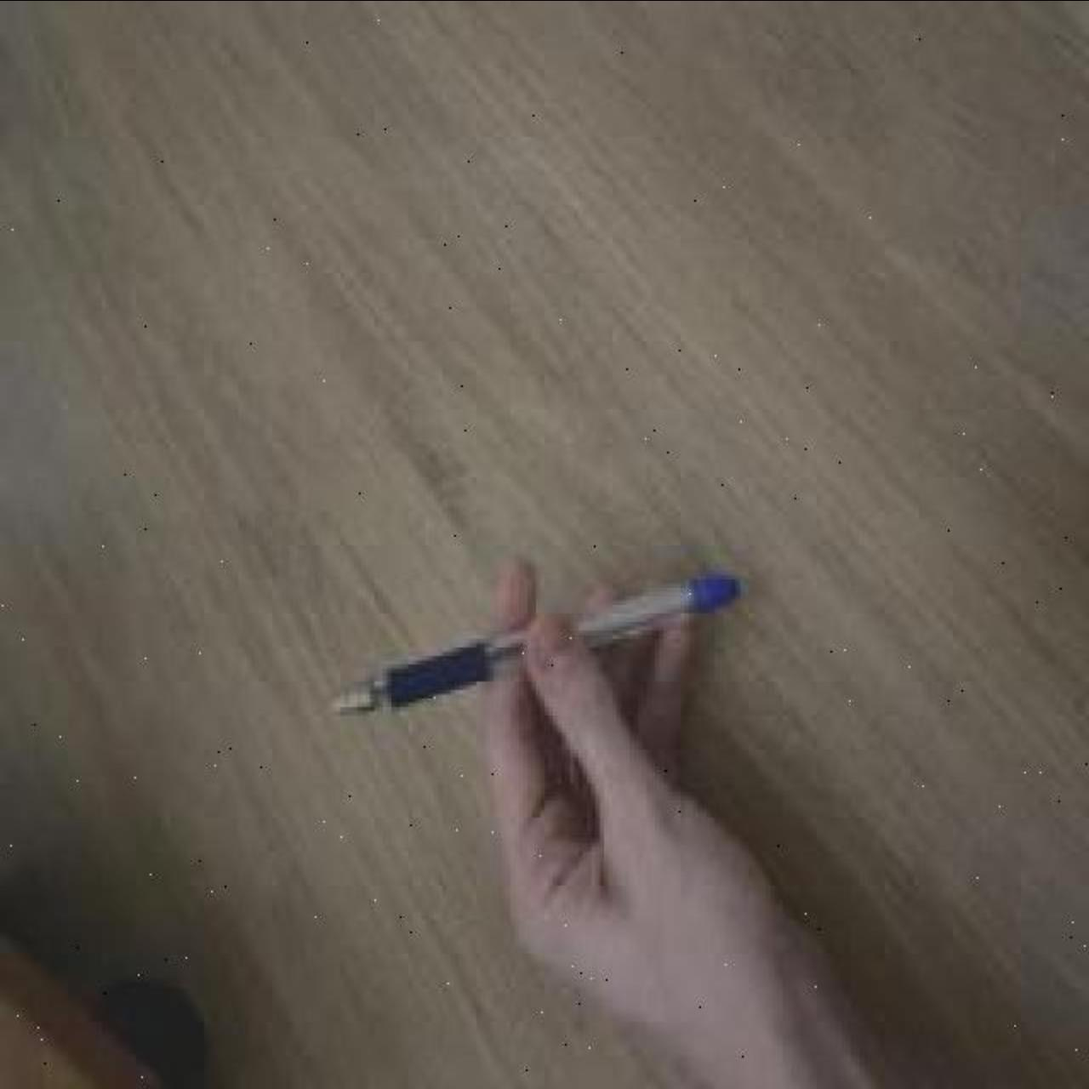pen: (328, 562, 750, 723)
